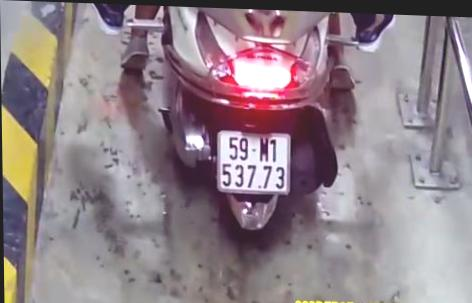License_Plate: (207, 127, 300, 202)
